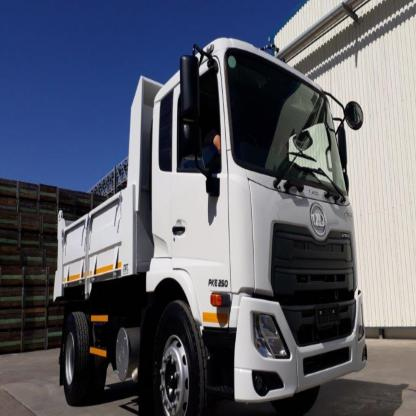dump_truck: (41, 31, 375, 416)
